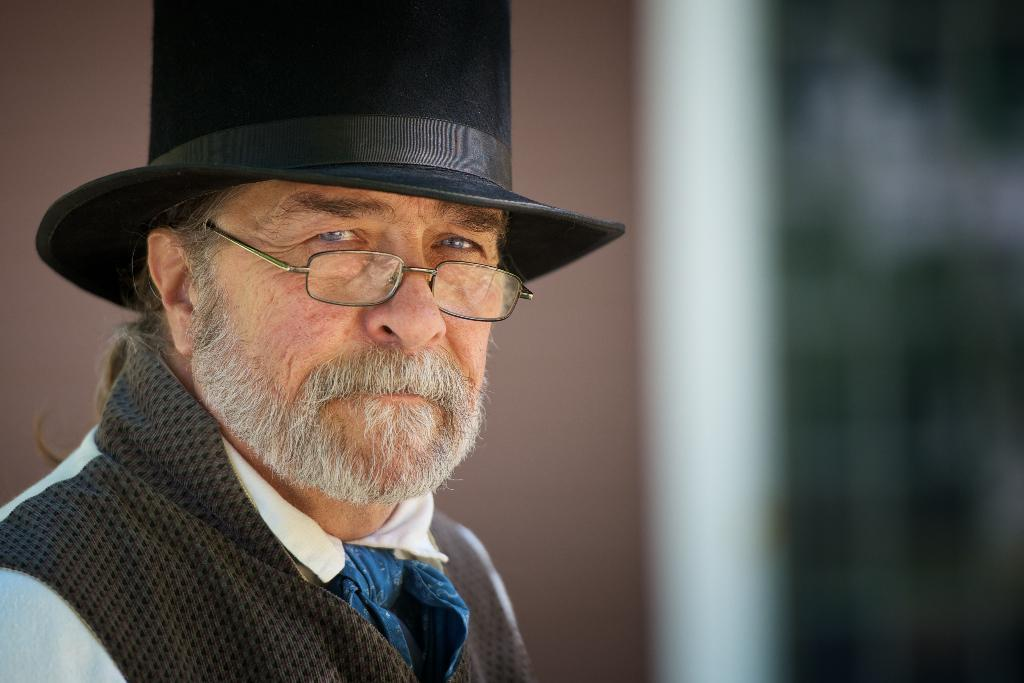Hat: (33, 0, 626, 312)
